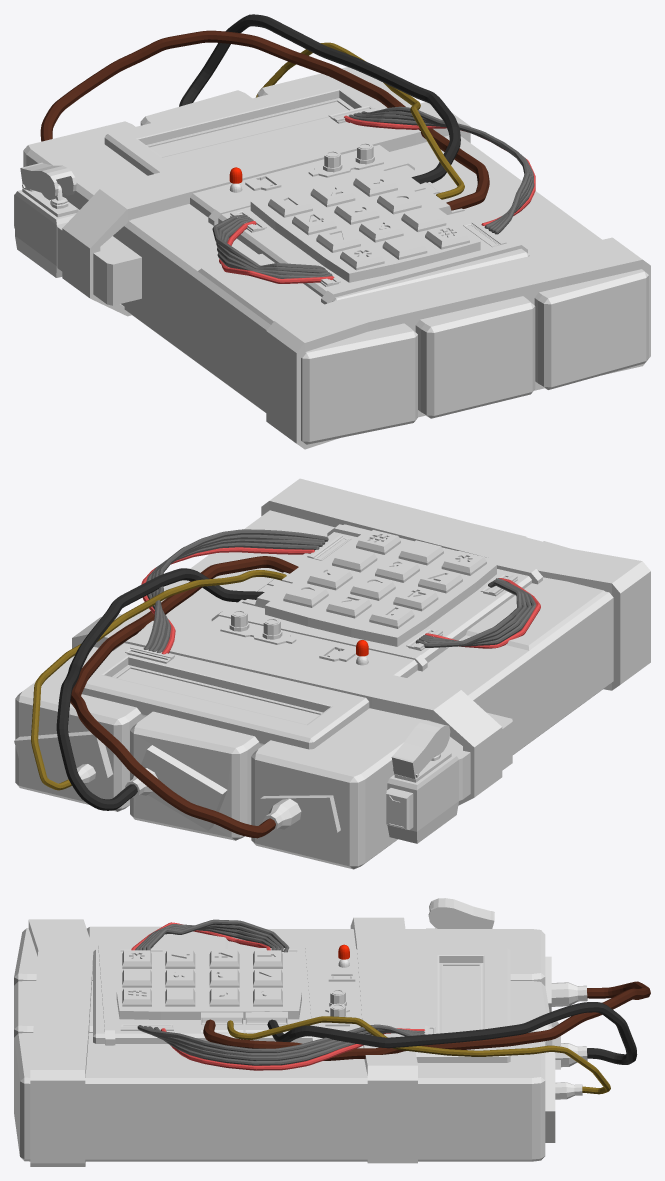
Rendered from Bomb.fbx.
3 renders of one model, top to bottom at view 1: azimuth 30°, elevation 25°; view 2: azimuth 150°, elevation 25°; view 3: azimuth 270°, elevation 25°, orthographic. The views are drawn at different scales.
Visible parts, largest first — view 1: Plane, Plane.003, Plane.001, Cube.001, Plane.004, Plane.010, Plane.002, Plane.011, Plane.012, Plane.005; view 2: Plane, Plane.001, Plane.003, Cube.001, Plane.002, Plane.004, Plane.010, Plane.011, Plane.012, Plane.005, Cylinder.002; view 3: Plane, Plane.003, Plane.001, Cube.001, Plane.002, Plane.011, Plane.010, Plane.012, Plane.005, Cylinder.002.
Part boxes in pixels (x1=…): Plane: x1=23, y1=67, x2=648, y2=444; Plane.003: x1=62, y1=102, x2=650, y2=449; Plane.001: x1=104, y1=78, x2=529, y2=301; Cube.001: x1=208, y1=105, x2=527, y2=304; Plane.004: x1=14, y1=184, x2=141, y2=305; Plane.010: x1=40, y1=30, x2=489, y2=210; Plane.002: x1=212, y1=106, x2=535, y2=283; Plane.011: x1=179, y1=14, x2=460, y2=183; Plane.012: x1=256, y1=42, x2=464, y2=199; Plane.005: x1=20, y1=162, x2=76, y2=200; Plane: x1=14, y1=510, x2=613, y2=869; Plane.001: x1=82, y1=524, x2=531, y2=749; Plane.003: x1=72, y1=478, x2=650, y2=805; Cube.001: x1=125, y1=524, x2=542, y2=671; Plane.002: x1=141, y1=529, x2=540, y2=654; Plane.004: x1=386, y1=712, x2=512, y2=843; Plane.010: x1=70, y1=556, x2=298, y2=838; Plane.011: x1=56, y1=568, x2=264, y2=810; Plane.012: x1=31, y1=570, x2=286, y2=790; Plane.005: x1=391, y1=720, x2=450, y2=778; Cylinder.002: x1=68, y1=764, x2=301, y2=831; Plane: x1=14, y1=926, x2=560, y2=1161; Plane.003: x1=28, y1=917, x2=417, y2=1166; Plane.001: x1=93, y1=948, x2=510, y2=1062; Cube.001: x1=98, y1=944, x2=436, y2=1045; Plane.002: x1=131, y1=919, x2=424, y2=1070; Plane.011: x1=267, y1=1002, x2=637, y2=1064; Plane.010: x1=203, y1=981, x2=650, y2=1060; Plane.012: x1=227, y1=1016, x2=610, y2=1094; Plane.005: x1=428, y1=898, x2=494, y2=928; Cylinder.002: x1=551, y1=982, x2=587, y2=1099.
Bounding box in the file's own units: 517 × 183 × 805.
